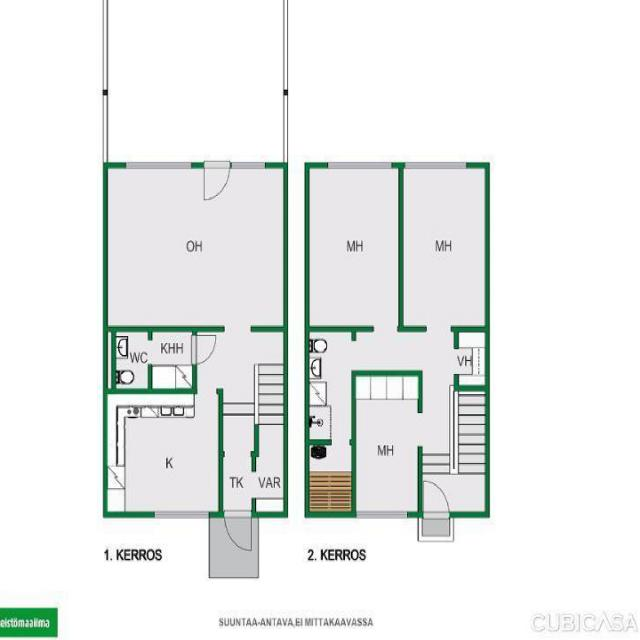door: (224, 512, 251, 554), (204, 162, 230, 202), (423, 479, 448, 518), (192, 335, 218, 364)
